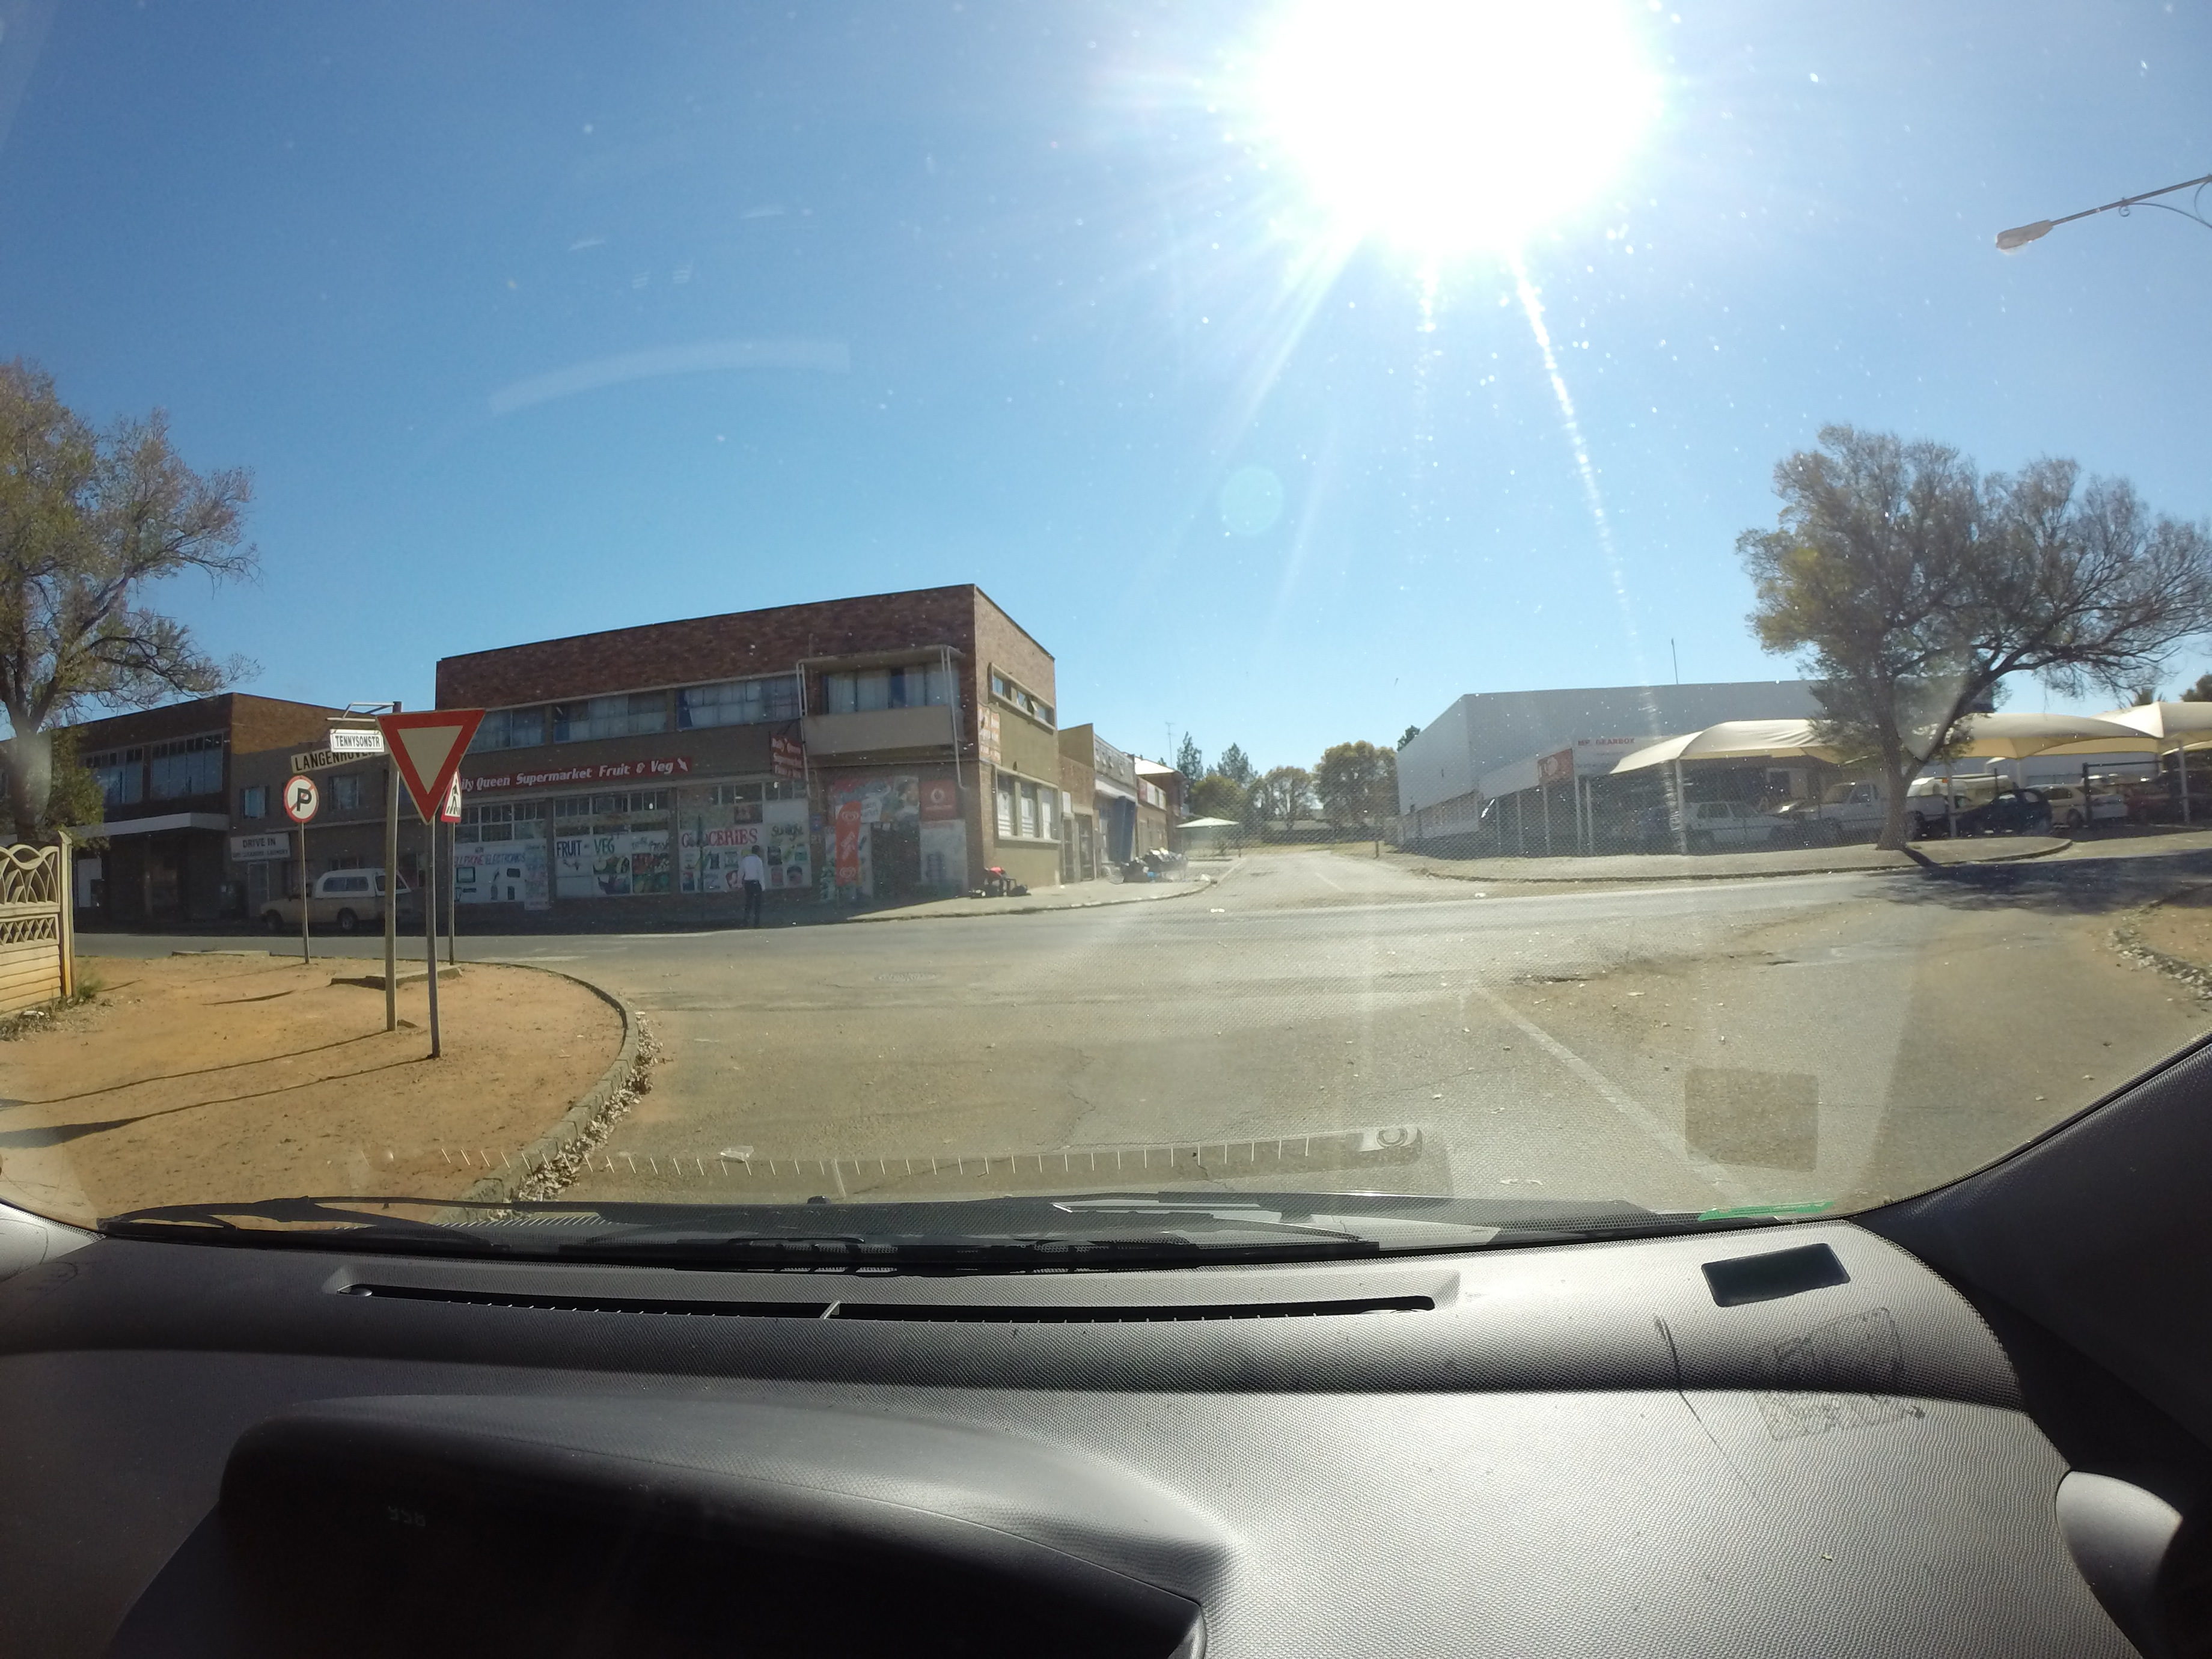pothole: (1435, 932, 1848, 1014)
